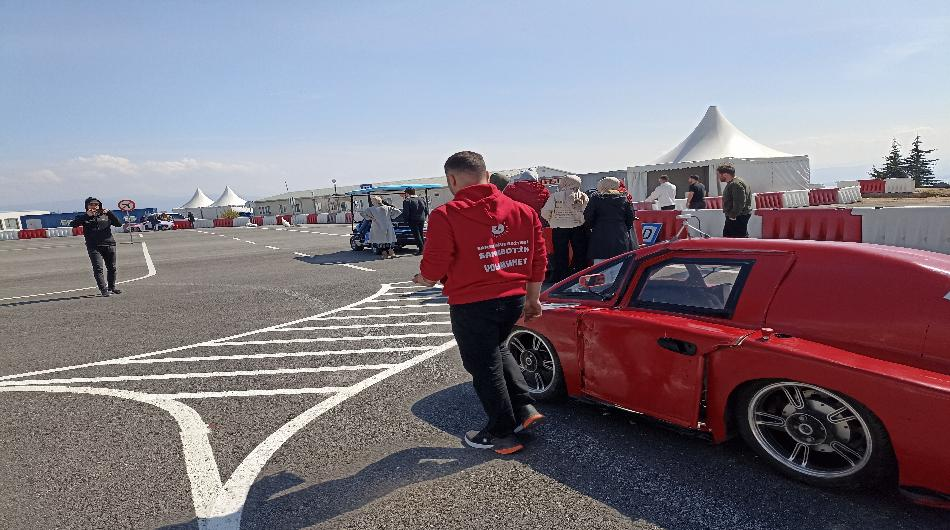yol_calismasi: (173, 277, 479, 511)
